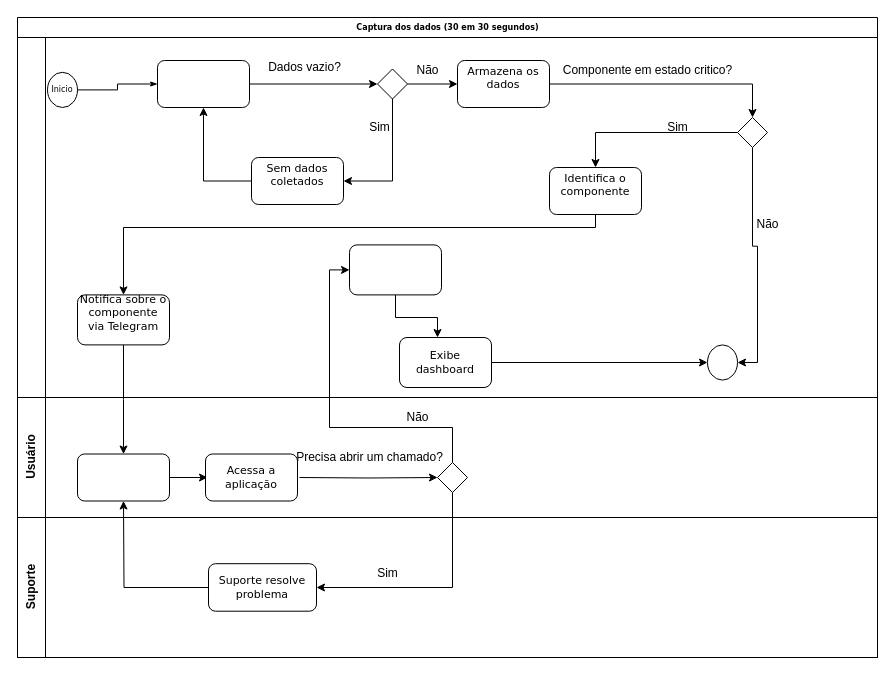
This 895x675 diagram has some shape labels left out. Each missing label, with the box of its shape:
Acessa as notificações: (76, 453, 170, 501)
Captura os dados: (156, 60, 250, 108)
Fim: (706, 344, 738, 380)
Mostra estatisticas: (348, 244, 442, 295)
Sistema: (16, 36, 878, 398)
